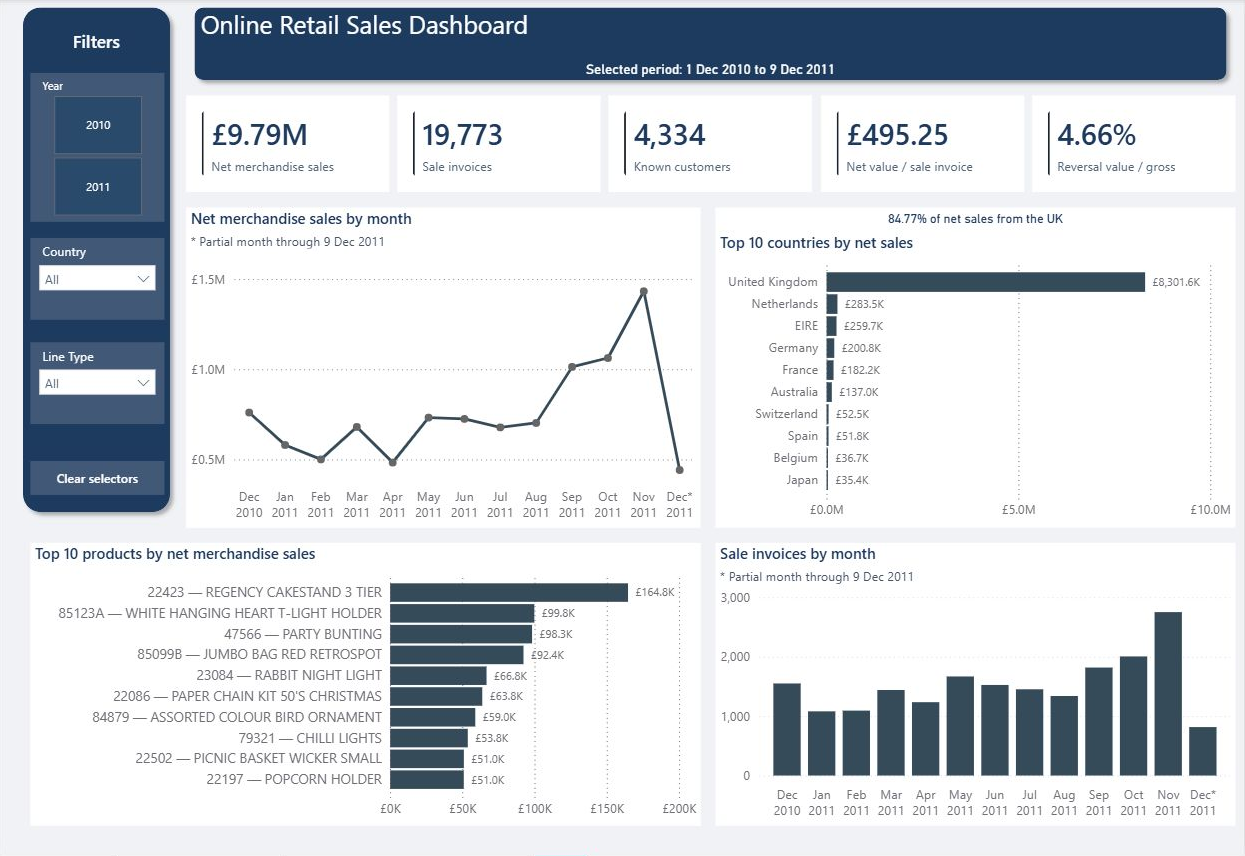

The dashboard page shown, as its layout file describes it:
{"tool":"powerbi","page":{"name":"Sales Overview","canvas":[1336,920],"ordinal":0},"visuals":[{"type":"shape","box":[16,0,176,560],"z":1000},{"type":"cardVisual","fields":{"Data":["Online Retail.Net Sales"]},"box":[200,104,218,104],"z":2000},{"type":"slicer","fields":{"Values":["Calendar.Year"]},"box":[32,80,144,160],"z":3000},{"type":"slicer","fields":{"Values":["Online Retail.Country"]},"box":[32,256,144,88],"z":4000},{"type":"slicer","fields":{"Values":["Online Retail.Line_Type"]},"box":[32,368,144,88],"z":5000},{"type":"cardVisual","fields":{"Data":["Online Retail.Orders"]},"box":[427,104,218,104],"z":6000},{"type":"cardVisual","fields":{"Data":["Online Retail.Unique Customers"]},"box":[654,104,218,104],"z":7000},{"type":"cardVisual","fields":{"Data":["Online Retail.Average Order Value"]},"box":[881,104,218,104],"z":8000},{"type":"cardVisual","fields":{"Data":["Online Retail.Return rate"]},"box":[1108,104,218,104],"z":9000},{"type":"lineChart","title":"Net merchandise sales by month","fields":{"Category":["Calendar.YearMonth_Label"],"Y":["Online Retail.Net Sales"]},"box":[200,224,552,344],"z":10000},{"type":"clusteredBarChart","title":"Top 10 countries by net sales","fields":{"Category":["Online Retail.Country"],"Y":["Online Retail.Net Sales"]},"box":[768,250,558,318],"z":11000},{"type":"clusteredBarChart","title":"Top 10 products by net merchandise sales","fields":{"Category":["DimProduct.Product_Label"],"Y":["Online Retail.Net Sales"]},"box":[32,584,720,304],"z":12000},{"type":"clusteredColumnChart","title":"Sale invoices by month","fields":{"Category":["Calendar.YearMonth_Label"],"Y":["Online Retail.Orders"]},"box":[768,584,558,304],"z":13000},{"type":"shape","box":[200,0,1126,96],"z":14000},{"type":"textbox","title":"Online Retail Sales Dashboard","box":[215,8,1095,54],"z":15000},{"type":"card","fields":{"Values":["Online Retail.Report Context"]},"box":[215,64,1095,25],"z":16000},{"type":"textbox","title":"Filters","box":[16,32,176,40],"z":17000},{"type":"actionButton","title":"Clear all filters","box":[32,496,144,36],"z":18000},{"type":"card","fields":{"Values":["Online Retail.Country Sales Note"]},"box":[768,224,558,26],"z":21000}]}

Visuals, with their boxes in screenshot pixels (x1, y1, x2, y2), scaled from the page's 1336x920 canvas onto the 1245x856 screenshot:
shape: bbox=[15, 0, 179, 521]
cardVisual - Online Retail.Net Sales: bbox=[186, 97, 390, 194]
slicer - Calendar.Year: bbox=[30, 74, 164, 223]
slicer - Online Retail.Country: bbox=[30, 238, 164, 320]
slicer - Online Retail.Line_Type: bbox=[30, 342, 164, 424]
cardVisual - Online Retail.Orders: bbox=[398, 97, 601, 194]
cardVisual - Online Retail.Unique Customers: bbox=[609, 97, 813, 194]
cardVisual - Online Retail.Average Order Value: bbox=[821, 97, 1024, 194]
cardVisual - Online Retail.Return rate: bbox=[1033, 97, 1236, 194]
"Net merchandise sales by month" lineChart: bbox=[186, 208, 701, 528]
"Top 10 countries by net sales" clusteredBarChart: bbox=[716, 233, 1236, 528]
"Top 10 products by net merchandise sales" clusteredBarChart: bbox=[30, 543, 701, 826]
"Sale invoices by month" clusteredColumnChart: bbox=[716, 543, 1236, 826]
shape: bbox=[186, 0, 1236, 89]
"Online Retail Sales Dashboard" textbox: bbox=[200, 7, 1221, 58]
card - Online Retail.Report Context: bbox=[200, 60, 1221, 83]
"Filters" textbox: bbox=[15, 30, 179, 67]
"Clear all filters" actionButton: bbox=[30, 461, 164, 495]
card - Online Retail.Country Sales Note: bbox=[716, 208, 1236, 233]
